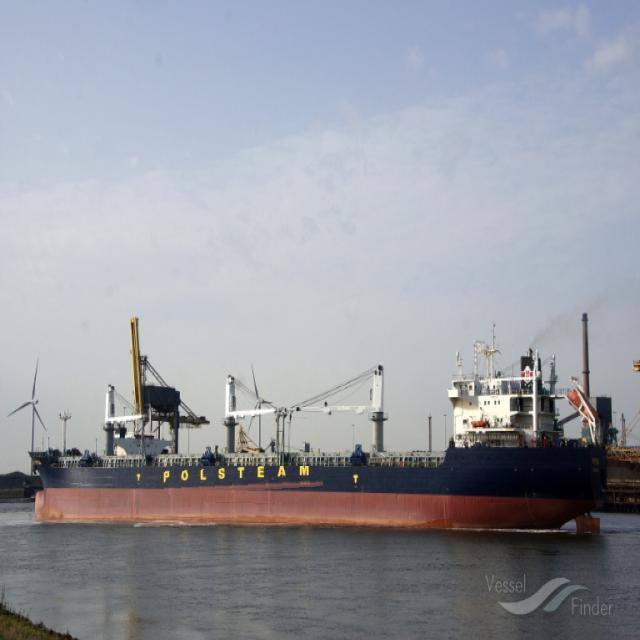OCR: (157, 466, 325, 496)
